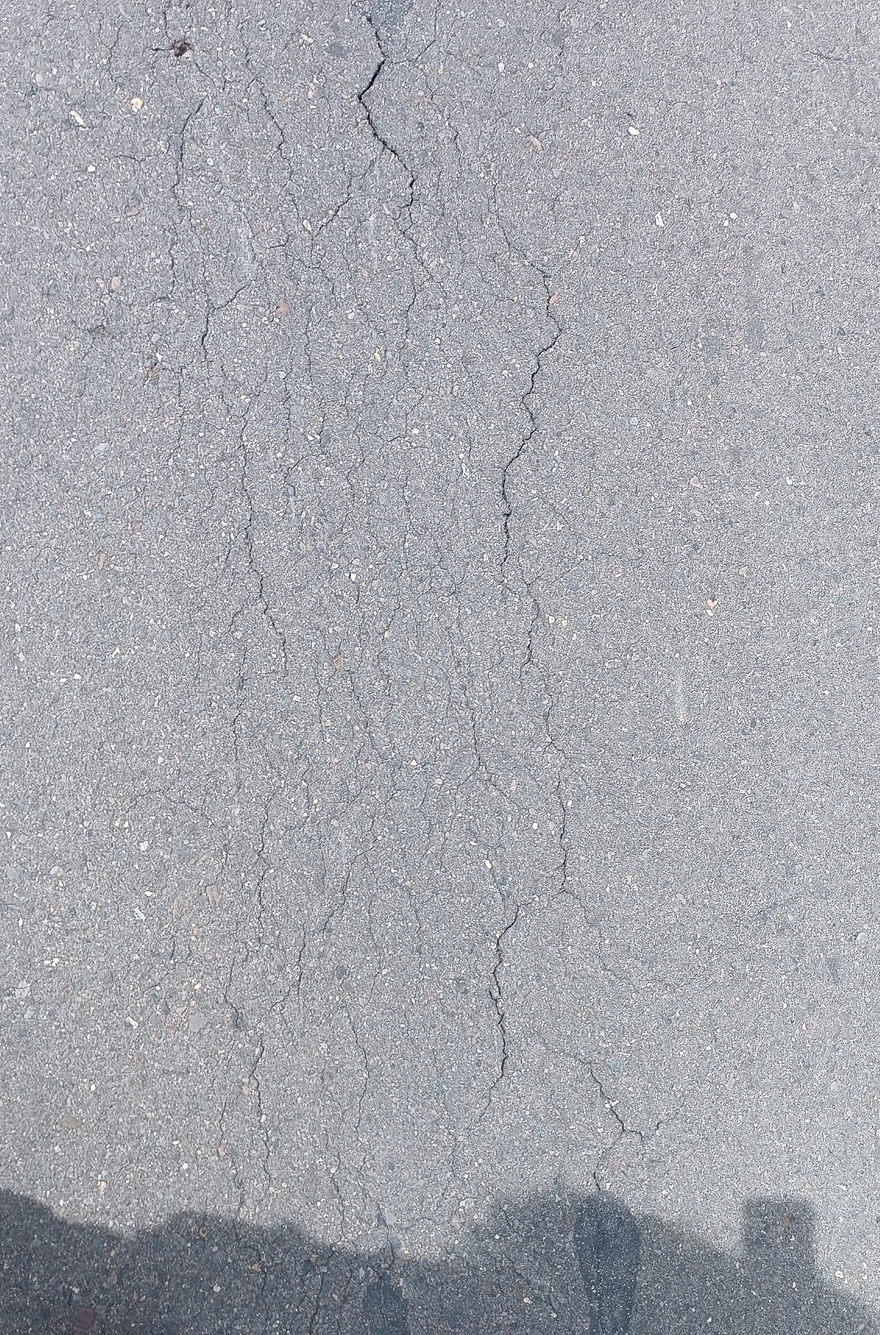PIEL DE COCODRILO: (151, 0, 679, 1335)
